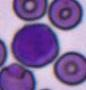L: (12, 23, 60, 69)
